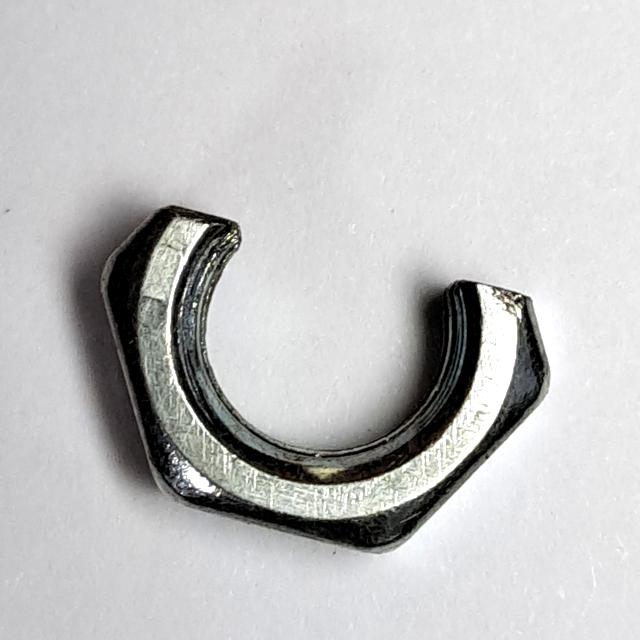Fracture: (87, 181, 575, 573)
